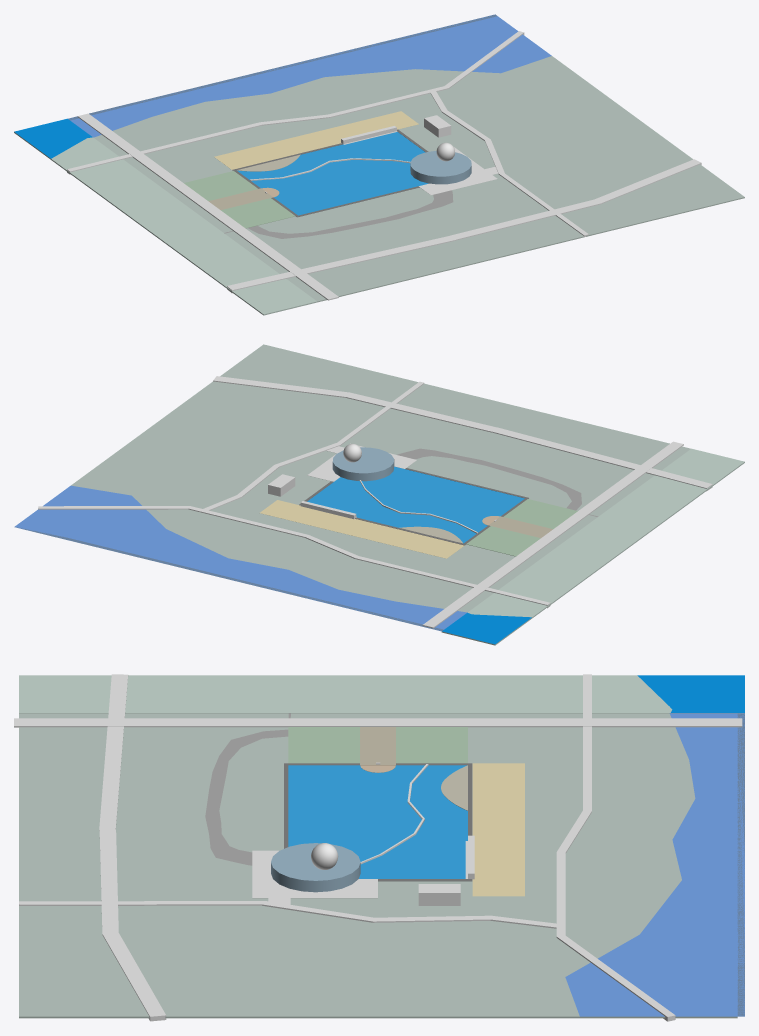
3 views of the same model, one above another, from view 1: azimuth 30°, elevation 25°; view 2: azimuth 150°, elevation 25°; view 3: azimuth 270°, elevation 25° (orthographic). The views are drawn at different scales.
Visible parts, largest first — view 1: pCube61; view 2: pCube61; view 3: pCube61.
Boxes of the visible parts, box(x1,y1,x2,y2) form: pCube61: box(14, 14, 744, 315); pCube61: box(14, 344, 744, 645); pCube61: box(14, 674, 744, 1021).
Bounding box in the file's own units: 90.37 × 9.95 × 81.39.
